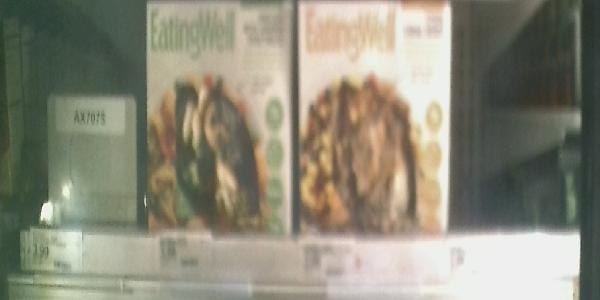pizza1: (298, 3, 446, 236), (146, 2, 290, 238)
